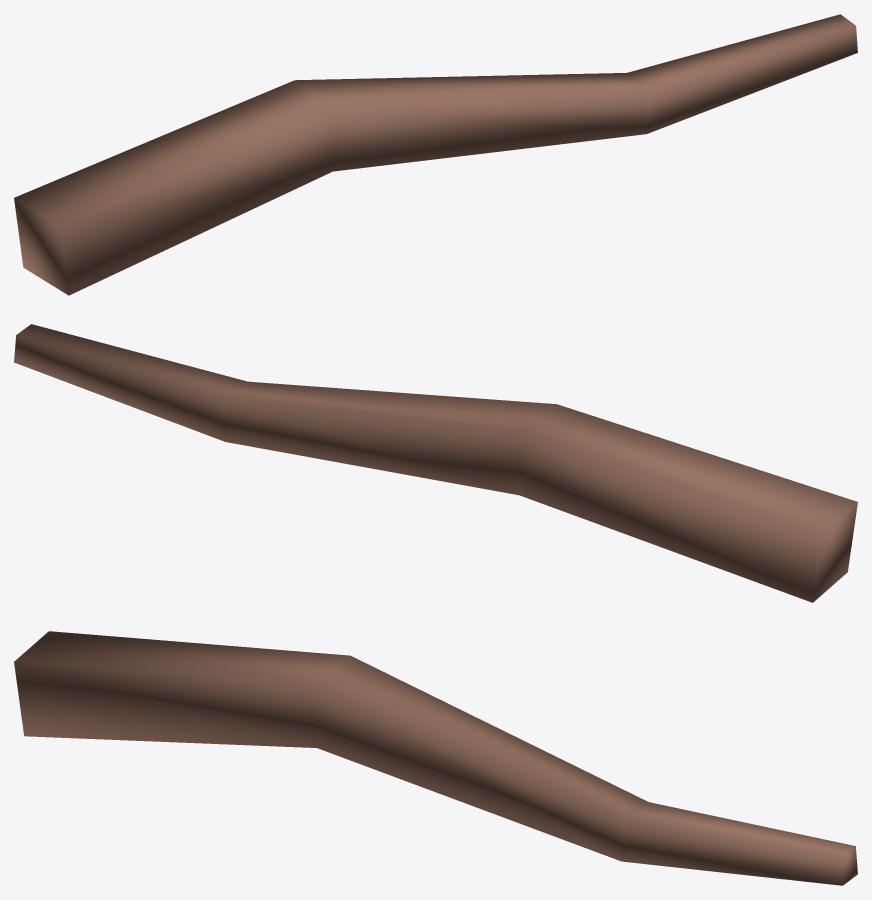
Rendered from Stick_LightBrown_3.fbx.
The picture shows the model from 3 angles, top to bottom: view 1: azimuth 30°, elevation 25°; view 2: azimuth 150°, elevation 25°; view 3: azimuth 330°, elevation 25°; orthographic projection.
Parts seen in each view (by area): view 1: Stick_LightBrown_3; view 2: Stick_LightBrown_3; view 3: Stick_LightBrown_3.
Part boxes in pixels (x1=…): Stick_LightBrown_3: x1=14, y1=14, x2=857, y2=295; Stick_LightBrown_3: x1=14, y1=324, x2=857, y2=602; Stick_LightBrown_3: x1=14, y1=631, x2=857, y2=885.
Size of the model in its own units: 186 by 24.13 by 20.
